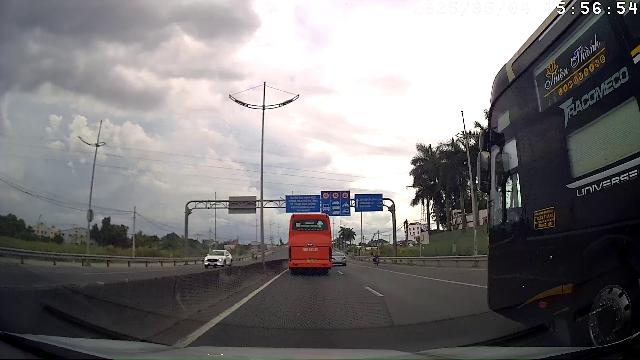127-toc-do-toi-da-60: (322, 192, 330, 200), (341, 191, 349, 199), (331, 192, 340, 199)
